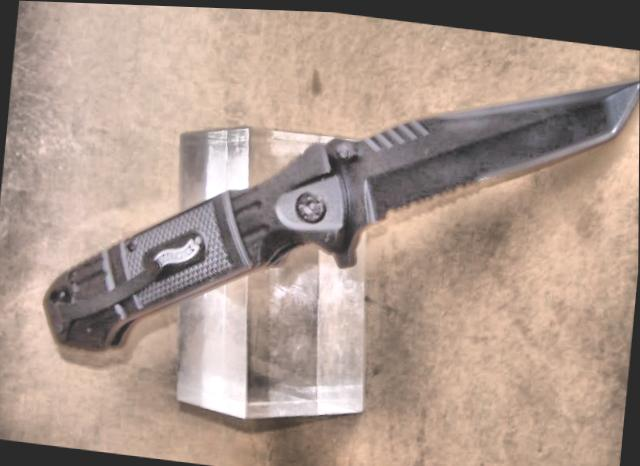knife: (352, 39, 640, 233)
